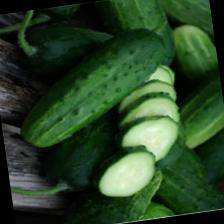cucumber: (7, 24, 181, 151)
